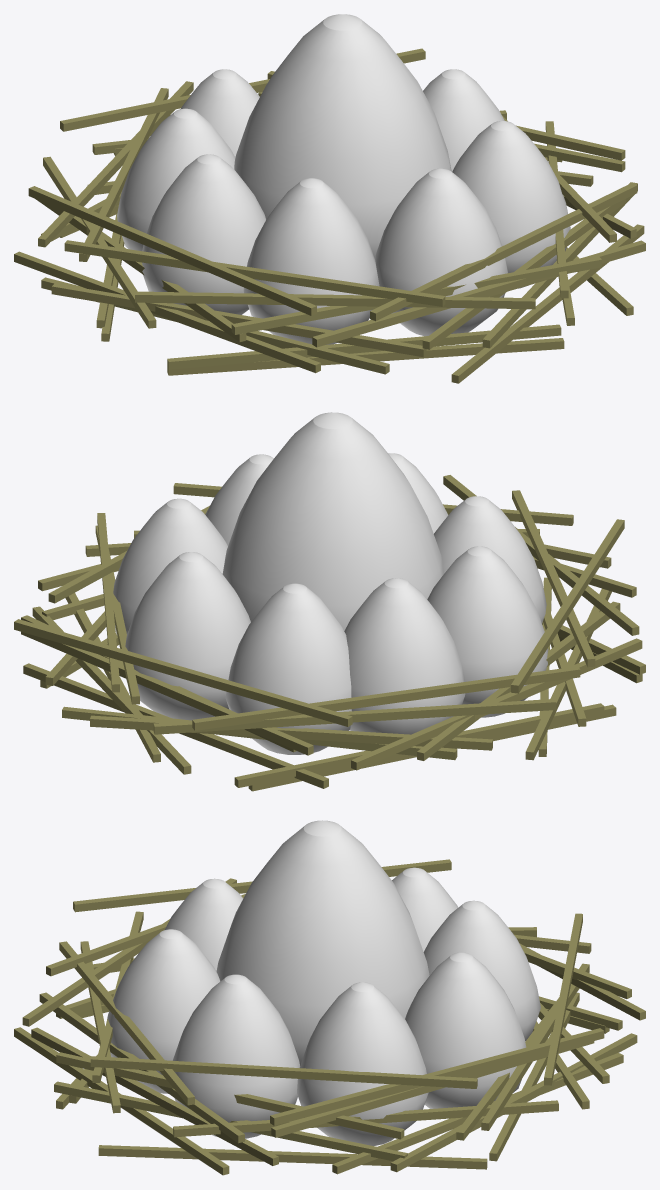
Rendered from BaseMesh.fbx.
3 views of the same model, one above another, from view 1: azimuth 30°, elevation 25°; view 2: azimuth 150°, elevation 25°; view 3: azimuth 270°, elevation 25° (orthographic). The views are drawn at different scales.
Parts seen in each view (by area): view 1: pCylinder10; view 2: pCylinder10; view 3: pCylinder10.
Part boxes in pixels (box(x1,y1,x2,y2)): pCylinder10: box(14, 14, 645, 383); pCylinder10: box(14, 412, 645, 791); pCylinder10: box(14, 820, 645, 1175).
Size of the model in its own units: 6.23 by 2.85 by 6.49.
